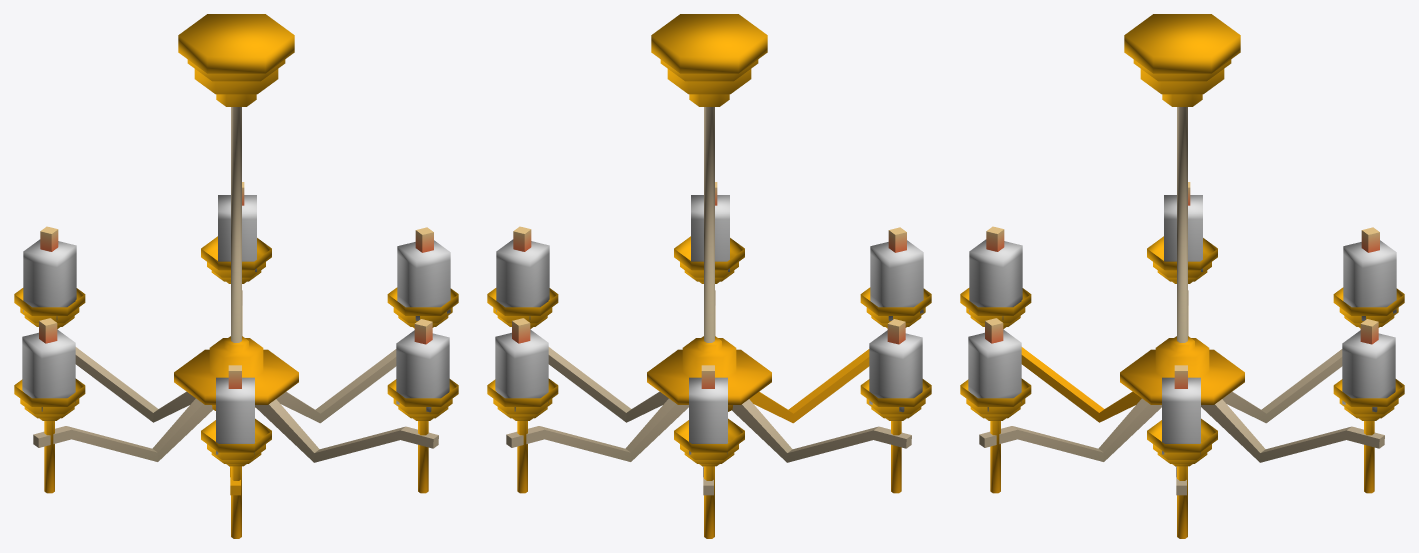
File: Chandelier.fbx
The picture shows the model from 3 angles, left to right: view 1: azimuth 30°, elevation 25°; view 2: azimuth 150°, elevation 25°; view 3: azimuth 270°, elevation 25°; orthographic projection.
Visible parts, largest first — view 1: Chandelier; view 2: Chandelier; view 3: Chandelier.
Part boxes in pixels (box(x1,y1,x2,y2)): Chandelier: box(14, 14, 458, 538); Chandelier: box(487, 14, 931, 538); Chandelier: box(960, 14, 1404, 538).
Size of the model in its own units: 134 by 123 by 121.
